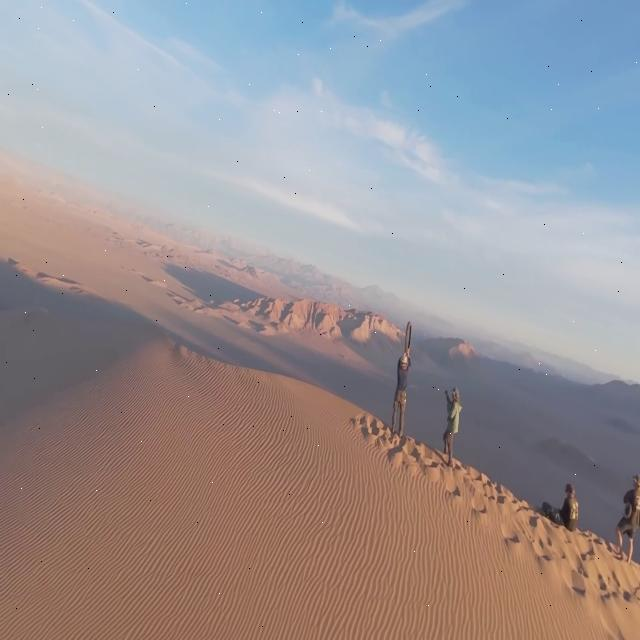Tire: (405, 321, 412, 350)
